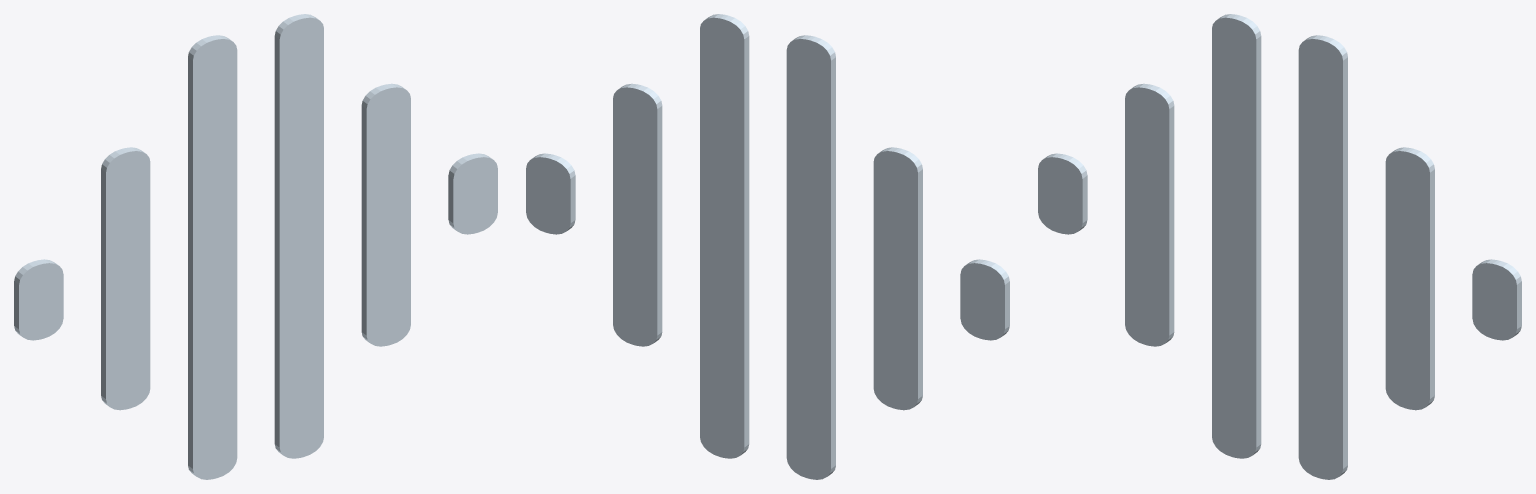
File: Audio_3D_Icon_05.fbx
The picture shows the model from 3 angles, left to right: view 1: azimuth 30°, elevation 25°; view 2: azimuth 150°, elevation 25°; view 3: azimuth 330°, elevation 25°; orthographic projection.
Visible parts, largest first — view 1: Audio_3D_Icon_05; view 2: Audio_3D_Icon_05; view 3: Audio_3D_Icon_05.
Part boxes in pixels (<box>): Audio_3D_Icon_05: <box>14,14,497,479</box>; Audio_3D_Icon_05: <box>526,14,1009,479</box>; Audio_3D_Icon_05: <box>1038,14,1521,479</box>.
Size of the model in its own units: 110 by 96.5 by 2.
